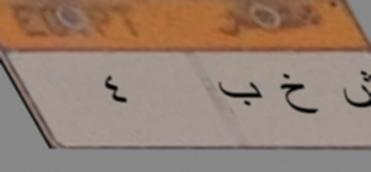4: (101, 70, 130, 112)
baa: (217, 76, 263, 114)
khaa: (275, 70, 319, 121)
